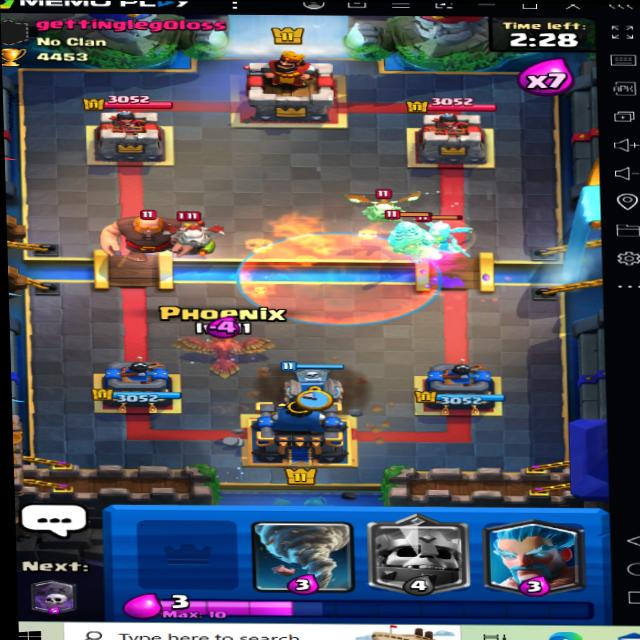battle-healer: (415, 212, 470, 253)
giant: (102, 206, 195, 262)
goblin-demolisher: (173, 212, 236, 260)
prince: (384, 209, 439, 257)
skeleton-dragon: (354, 190, 412, 226), (165, 217, 220, 251)
